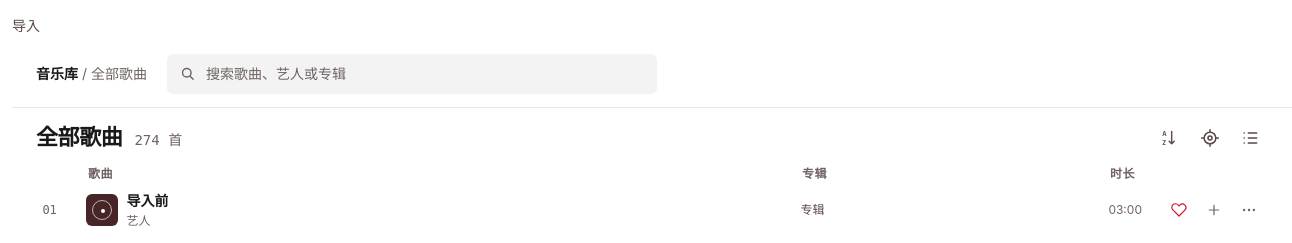
Test: 导入完成后的音乐库刷新（壳层入口） › refreshes all after its import completes
Expected: the text "导入前" is shown, x1=126 y1=190 x2=168 y2=212
Expected: the text "274 首" is shown, x1=134 y1=133 x2=182 y2=147
Click the button with test id "titlebar-import".
click(26, 26)  # box x1=12 y1=12 x2=40 y2=40
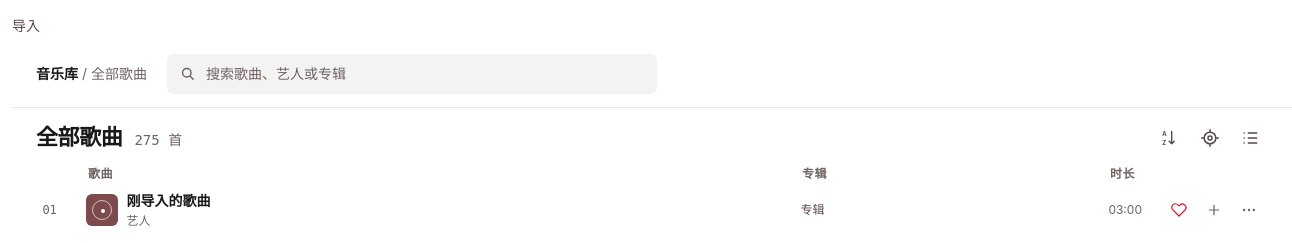
Expected: the text "刚导入的歌曲" is shown, x1=126 y1=190 x2=210 y2=212
